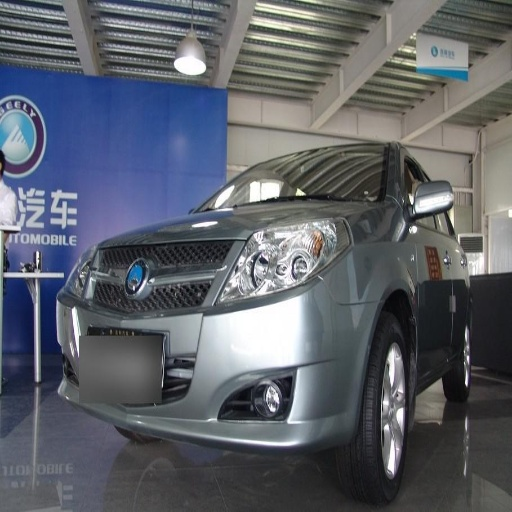front_bumper: (59, 239, 377, 453)
front_glass: (236, 160, 363, 195)
trunk: (9, 84, 125, 171)
